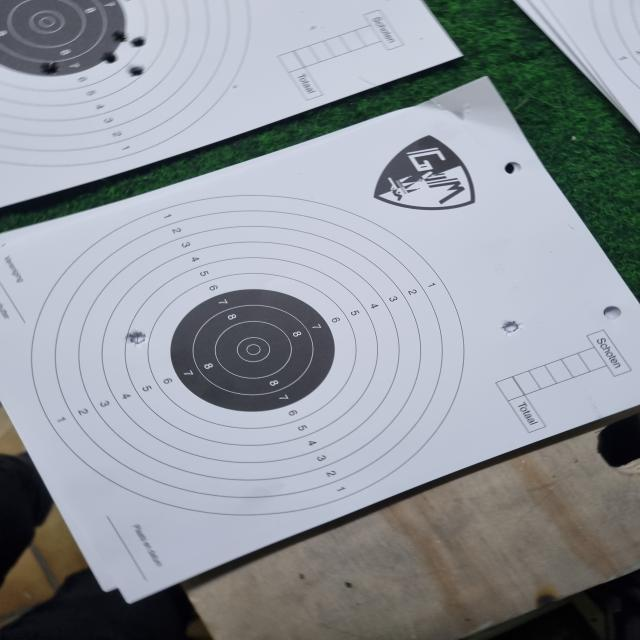0: (501, 321, 519, 333)
5: (128, 332, 146, 344), (128, 66, 144, 76)
6: (130, 36, 146, 48)
7: (42, 62, 60, 75), (103, 52, 118, 64), (112, 32, 127, 42)
Target: (28, 194, 465, 516), (0, 0, 255, 170)
black_contour: (170, 290, 338, 413)
